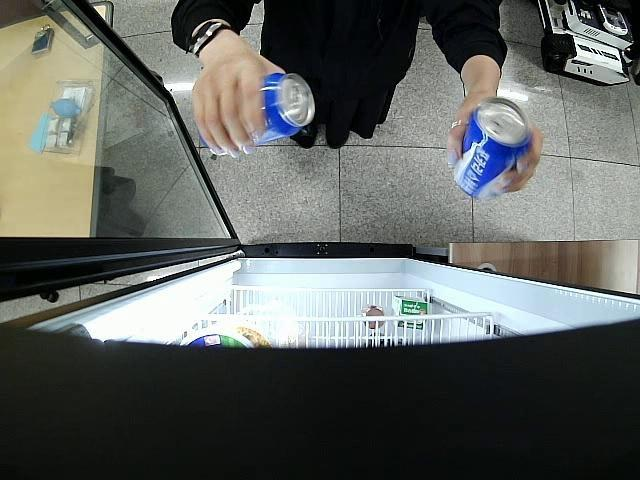13_pocariSweat: (205, 70, 316, 156), (452, 95, 534, 197)
